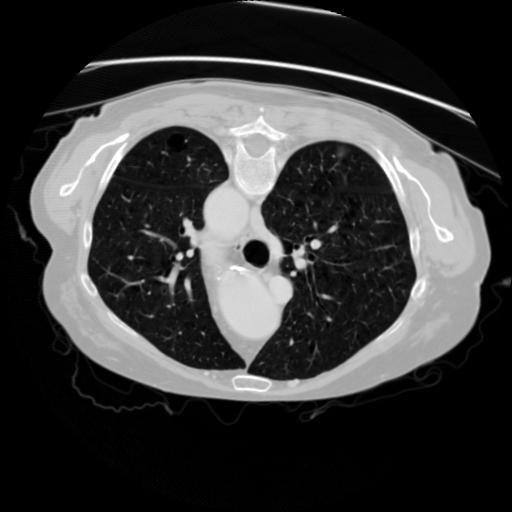nodule: (333, 145, 352, 164)
